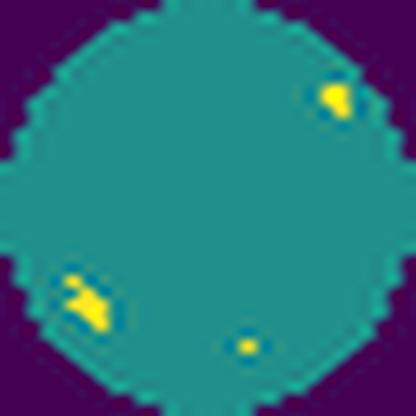Edge-Loc: (64, 271, 115, 333), (313, 82, 354, 119)
